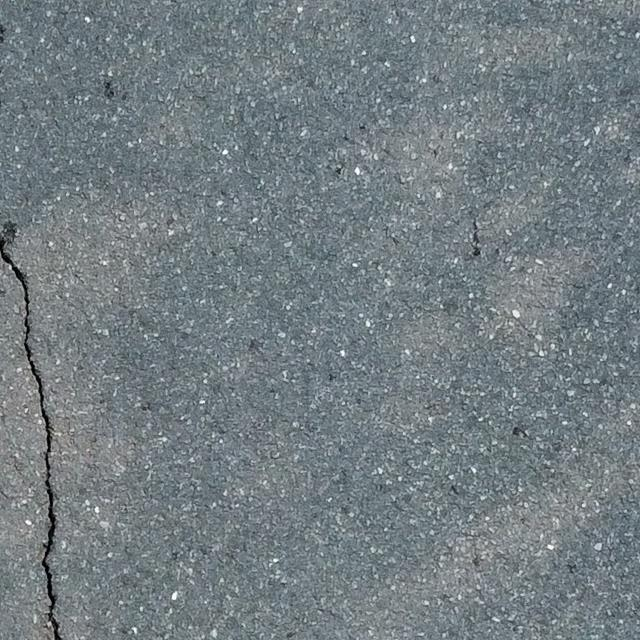LongitudinalCrack: (1, 239, 64, 640)
